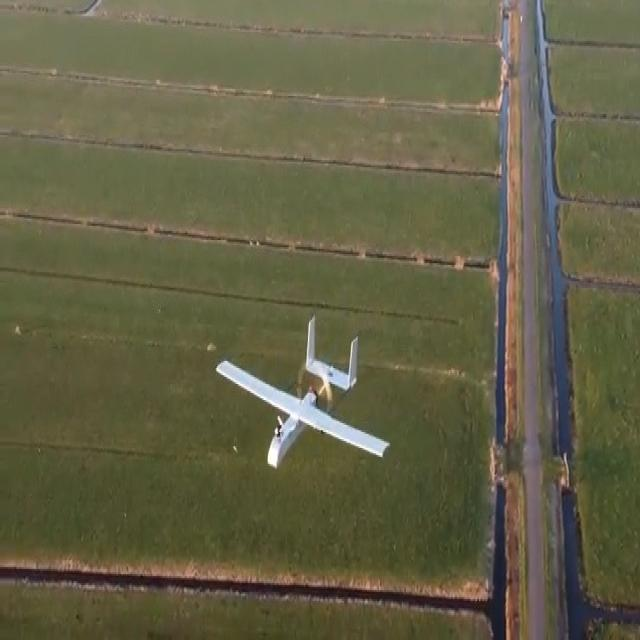iha: (216, 301, 391, 468)
